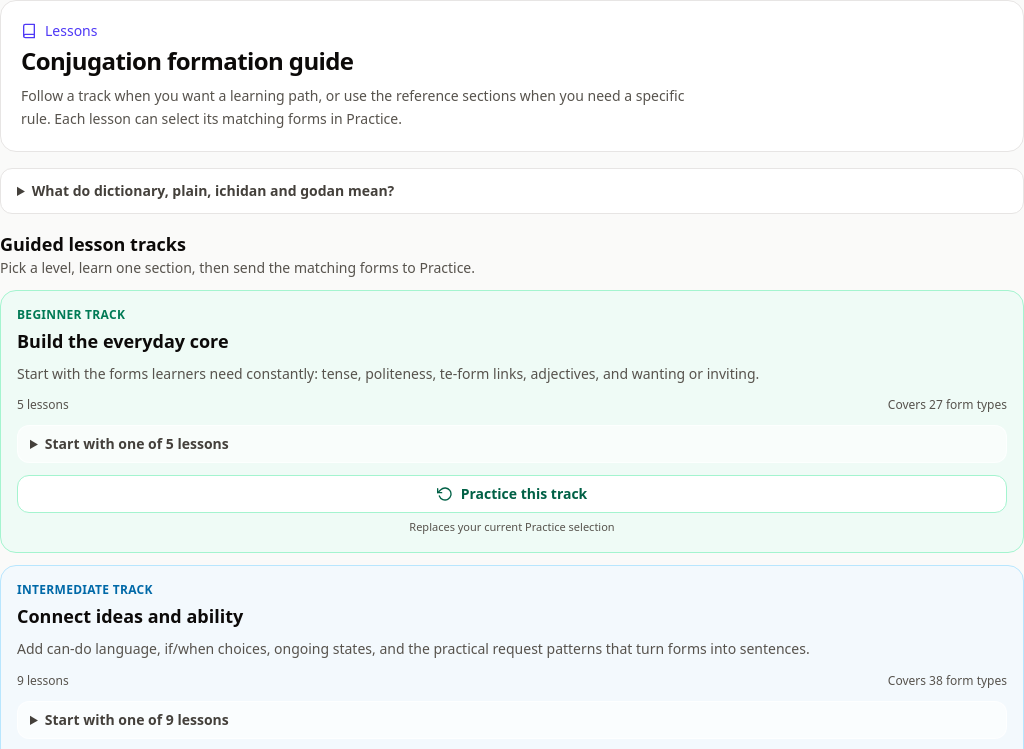
Test: beginner learning support › offers terms in a closed Learn disclosure
Click the heading "What do dictionary, plain, ichidan and godan mean?": coordinates (213, 190) [32,180,394,200]
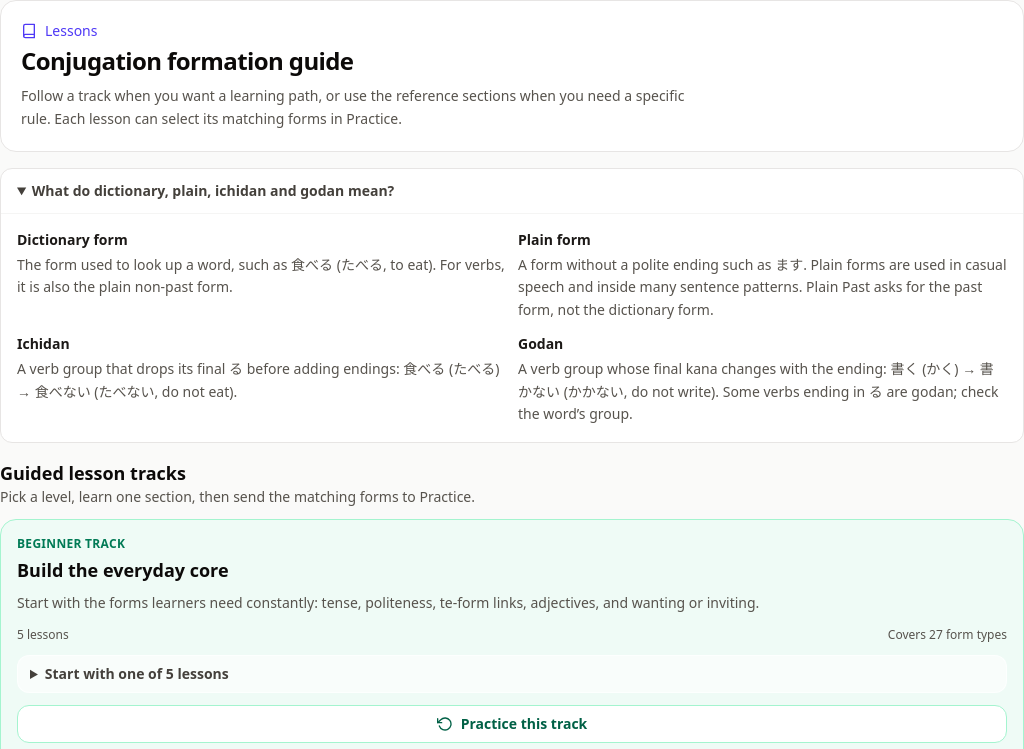
Check: the text "Dictionary form" is shown, box [17,230,128,248]
Check: the text "Godan" is shown, box [518,334,563,353]
